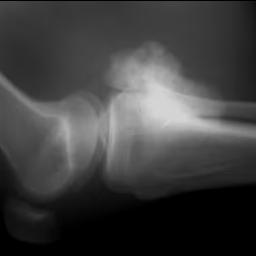cancer: (109, 40, 233, 133)
